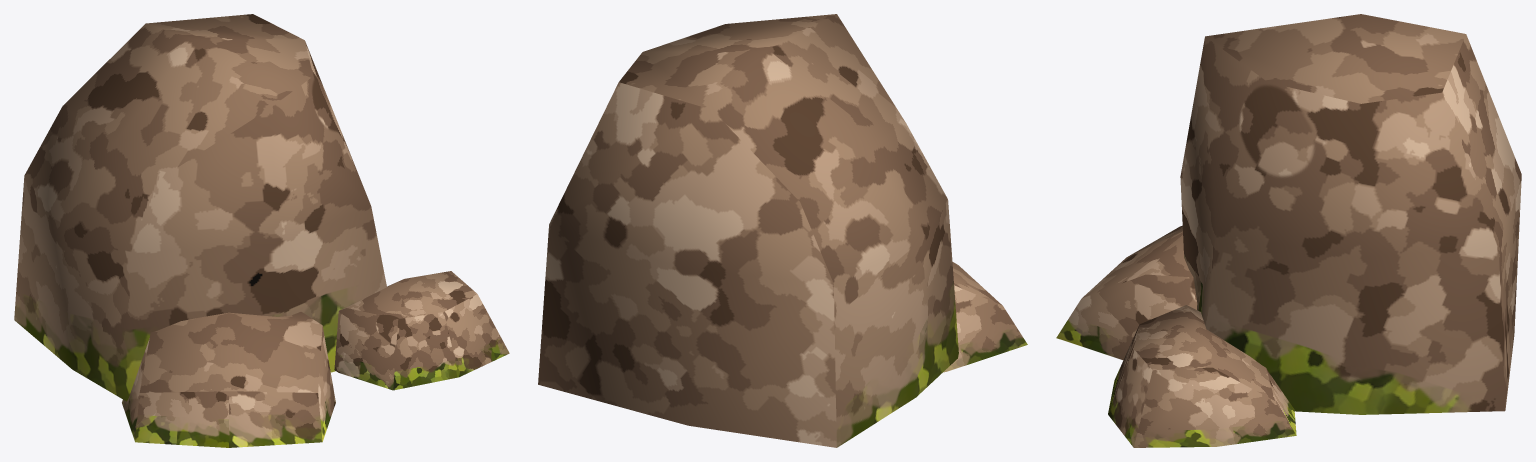
File: rock_03.FBX
The picture shows the model from 3 angles, left to right: view 1: azimuth 30°, elevation 25°; view 2: azimuth 150°, elevation 25°; view 3: azimuth 270°, elevation 25°; orthographic projection. The views are drawn at different scales.
Visible parts, largest first — view 1: Piedra; view 2: Piedra; view 3: Piedra.
Boxes of the visible parts, <box> form: Piedra: <box>14,14,509,447</box>; Piedra: <box>538,14,1027,447</box>; Piedra: <box>1056,14,1521,447</box>.
Size of the model in its own units: 1.29 by 1.3 by 1.02.
1 material, 1 textured.
